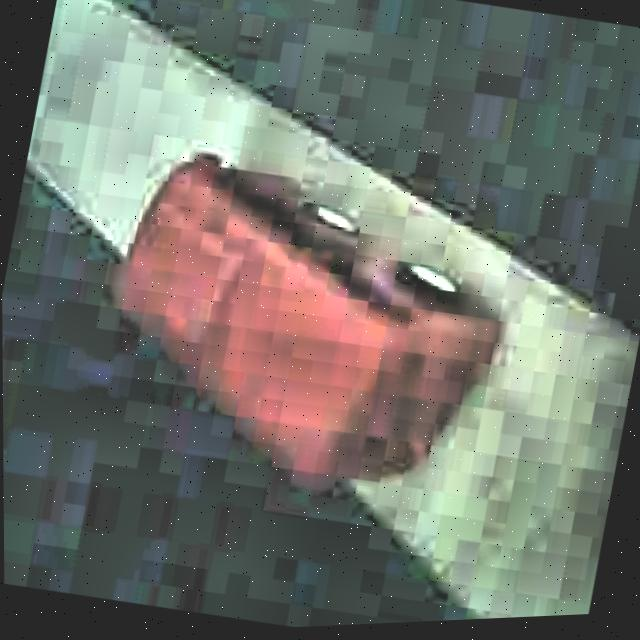bus: (80, 124, 533, 521)
